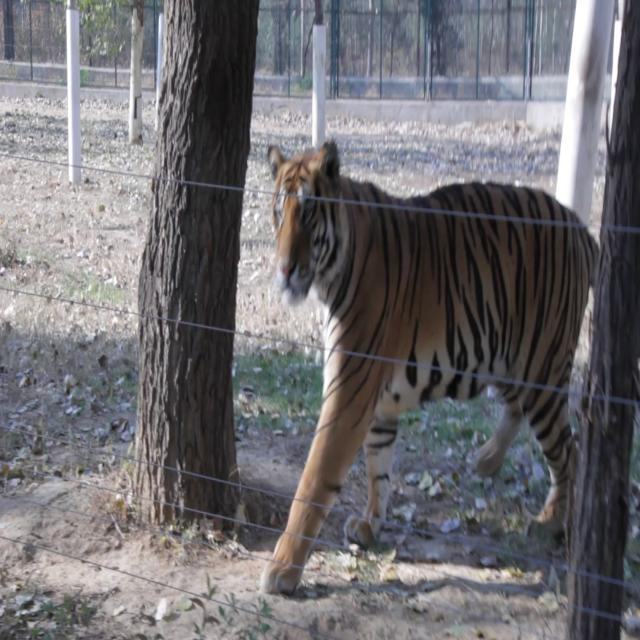Tiger: (252, 104, 598, 600)
